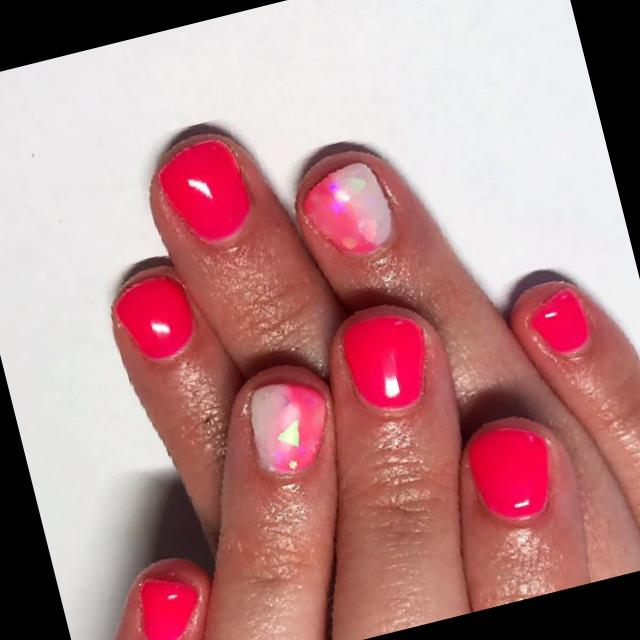Nail: (159, 140, 250, 242), (341, 313, 423, 411), (465, 425, 548, 520), (304, 165, 390, 251), (249, 381, 324, 474), (114, 278, 192, 360), (528, 287, 589, 354), (139, 579, 195, 640)
